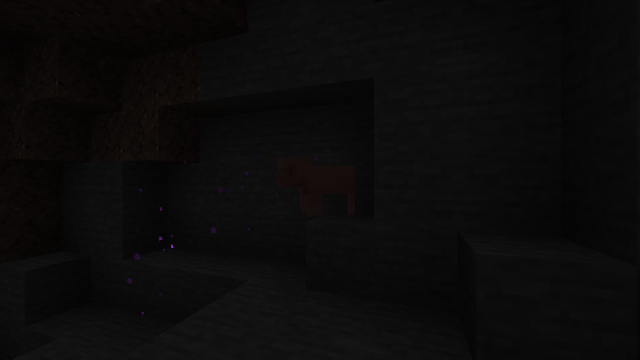cochons: (294, 162, 353, 217)
